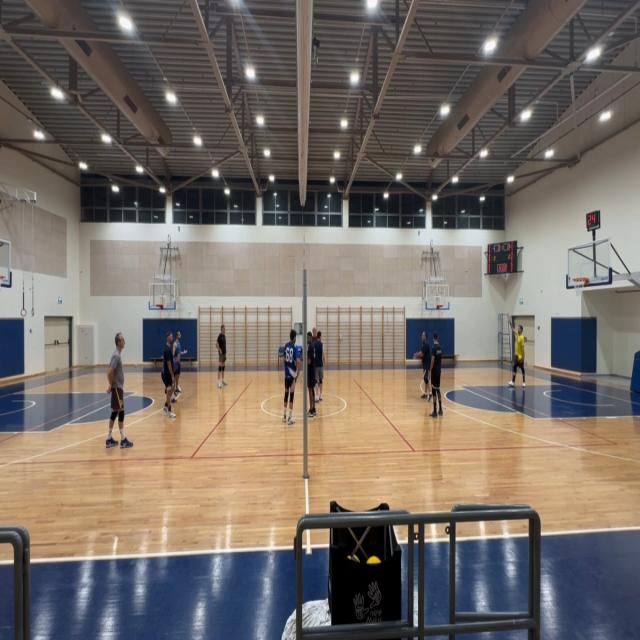volleyball: (518, 354, 523, 363)
